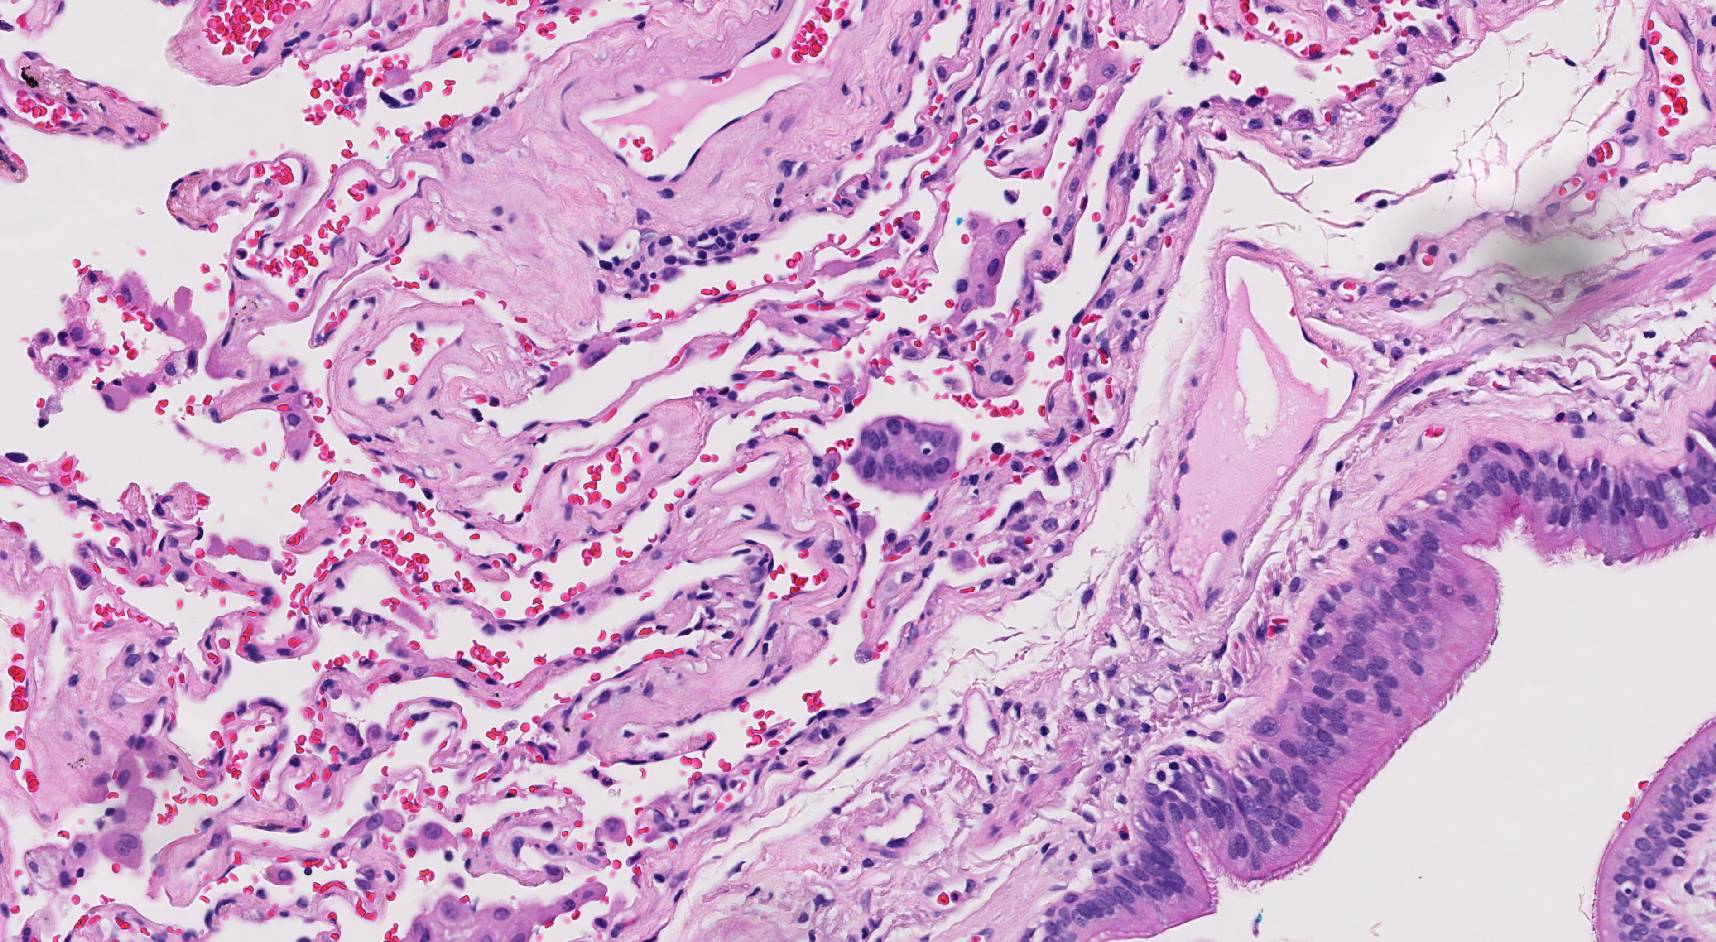stas: (850, 413, 963, 494)
